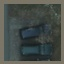car: (19, 24, 53, 40), (23, 44, 54, 55)
